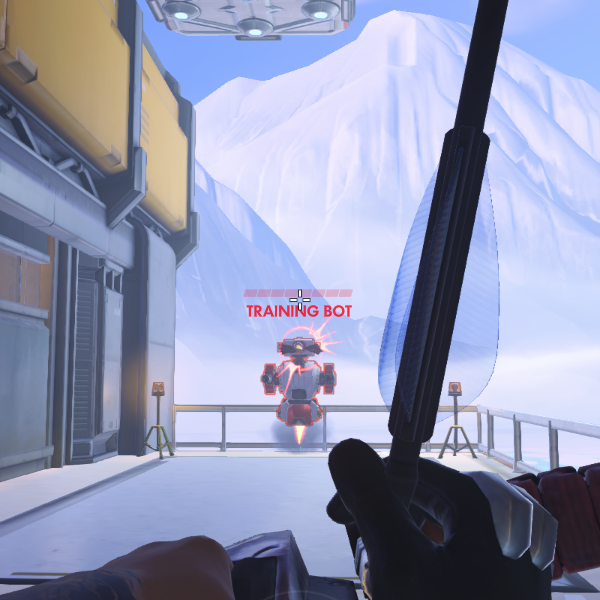hpbar: (243, 288, 353, 299)
